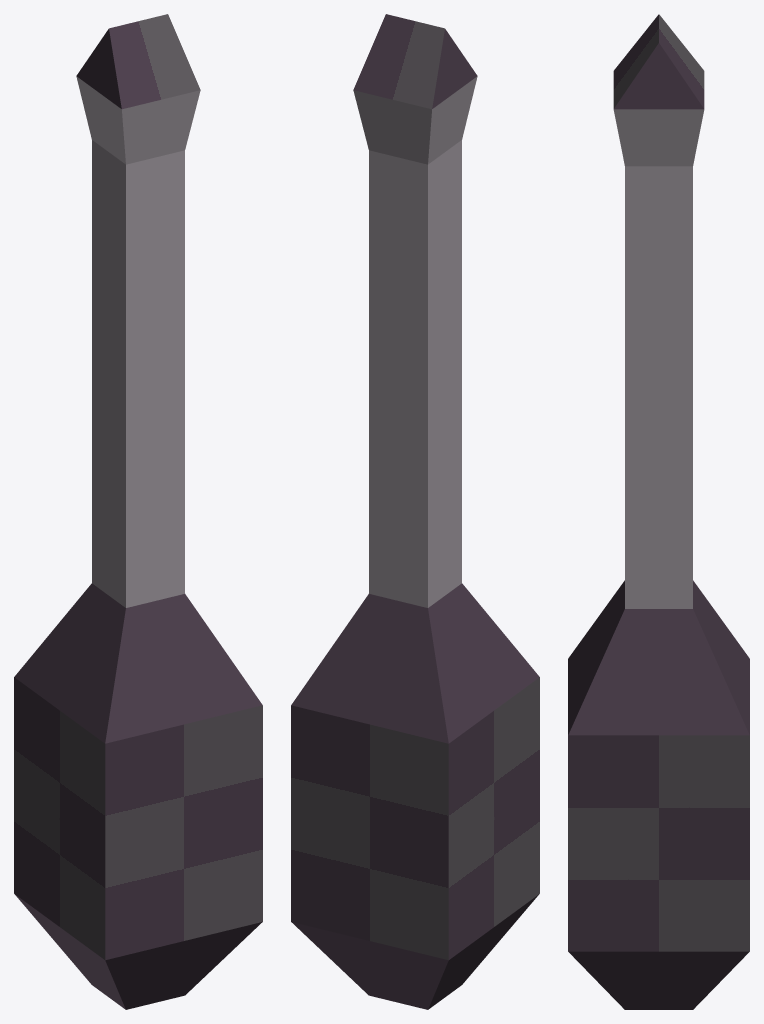
The model's file is Screwdriver.fbx.
3 renders of one model, left to right at view 1: azimuth 30°, elevation 25°; view 2: azimuth 150°, elevation 25°; view 3: azimuth 270°, elevation 25°, orthographic.
Parts seen in each view (by area): view 1: Cube.004; view 2: Cube.004; view 3: Cube.004.
Part boxes in pixels (x1=…): Cube.004: x1=14, y1=14, x2=262, y2=1009; Cube.004: x1=291, y1=14, x2=539, y2=1009; Cube.004: x1=568, y1=14, x2=749, y2=1009.
Size of the model in its own units: 6.25 by 36.7 by 6.25.
